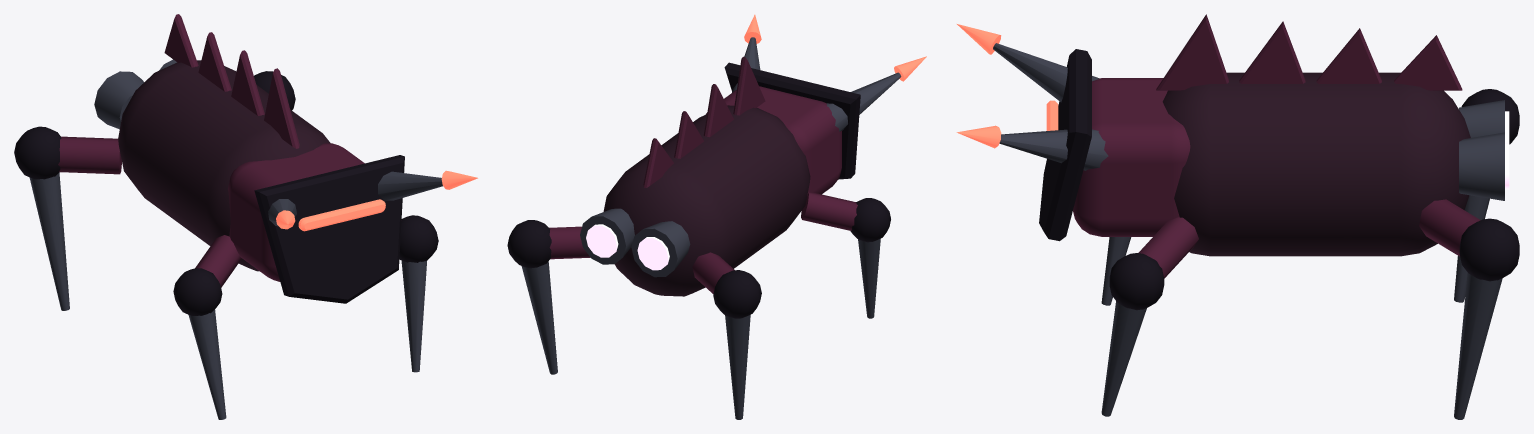
File: charger.glb
3 views of the same model, side by side, from view 1: azimuth 30°, elevation 25°; view 2: azimuth 150°, elevation 25°; view 3: azimuth 270°, elevation 25° (orthographic). The views are drawn at different scales.
Visible parts, largest first — view 1: body:hull, body:dark, body:plate, body:alloy, legBR:alloy, legBR:plate, legBR:dark, body:glow, legFR:alloy, legFL:alloy, legFR:dark, legFL:dark (+2 smaller); view 2: body:hull, body:plate, body:alloy, body:dark, legBL:alloy, legBR:dark, legBR:alloy, legBL:dark, body:hot, legFR:plate, legFR:dark, legFR:alloy (+3 smaller); view 3: body:hull, body:plate, body:alloy, body:dark, legBL:alloy, legBL:dark, legFL:dark, legFL:alloy, legBL:plate, legFL:plate, body:glow, legBR:dark (+2 smaller).
Boxes of the visible parts, x1,y1,x2,y2 form: body:hull: (118, 60, 330, 271); body:dark: (254, 155, 404, 303); body:plate: (164, 14, 364, 281); body:alloy: (94, 59, 442, 226); legBR:alloy: (29, 172, 69, 310); legBR:plate: (58, 136, 121, 174); legBR:dark: (14, 126, 61, 179); body:glow: (276, 170, 477, 231); legFR:alloy: (188, 309, 226, 419); legFL:alloy: (401, 260, 426, 372); legFR:dark: (173, 268, 222, 315); legFL:dark: (399, 215, 438, 262); body:hull: (603, 105, 810, 296); body:plate: (643, 56, 841, 195); body:alloy: (580, 37, 901, 277); body:dark: (724, 62, 860, 179); legBL:alloy: (521, 261, 557, 374); legBR:dark: (713, 270, 761, 318); legBR:alloy: (725, 315, 750, 419); legBL:dark: (507, 220, 551, 268); body:hot: (586, 224, 669, 270); legFR:plate: (801, 192, 857, 230); legFR:dark: (850, 198, 890, 242); legFR:alloy: (858, 239, 880, 318); body:hull: (1162, 72, 1470, 256); body:plate: (1073, 14, 1462, 236); body:alloy: (993, 43, 1504, 200); body:dark: (1039, 49, 1091, 241); legBL:alloy: (1454, 273, 1502, 419); legBL:dark: (1459, 218, 1519, 281); legFL:dark: (1109, 253, 1164, 310); legFL:alloy: (1101, 301, 1146, 416); legBL:plate: (1419, 199, 1480, 256); legFL:plate: (1138, 217, 1198, 278); body:glow: (956, 24, 1058, 148); legBR:dark: (1461, 89, 1519, 144).
Size of the model in its own units: 0.965 by 0.9931 by 1.47.
